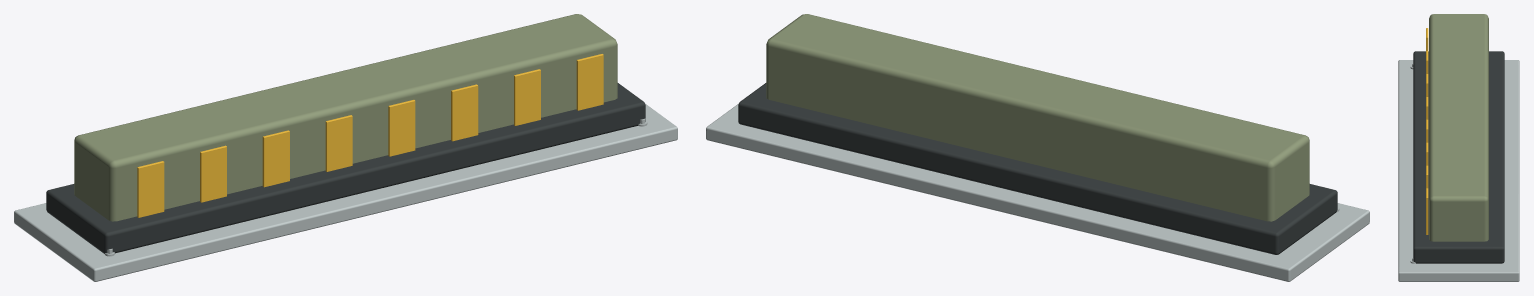
File: mountain-border-checkpoint-mountain-border-checkpoint--8547c1d7__30317.glb
3 renders of one model, left to right at view 1: azimuth 30°, elevation 25°; view 2: azimuth 150°, elevation 25°; view 3: azimuth 270°, elevation 25°, orthographic. The views are drawn at different scales.
Parts seen in each view (by area): view 1: mountain-border-checkpoint-retractable-road-blocker; view 2: mountain-border-checkpoint-retractable-road-blocker; view 3: mountain-border-checkpoint-retractable-road-blocker.
Part boxes in pixels (x1,y1,x2,y2): mountain-border-checkpoint-retractable-road-blocker: [14, 14, 677, 281]; mountain-border-checkpoint-retractable-road-blocker: [706, 14, 1369, 281]; mountain-border-checkpoint-retractable-road-blocker: [1398, 14, 1519, 281].
Size of the model in its own units: 2.7 by 0.4199 by 0.65.
